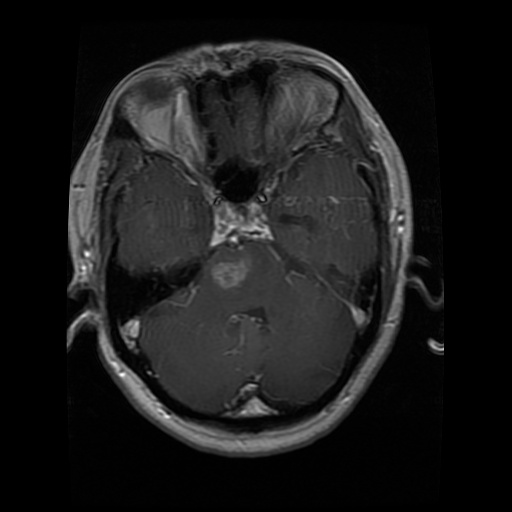glioma: (210, 257, 251, 291)
